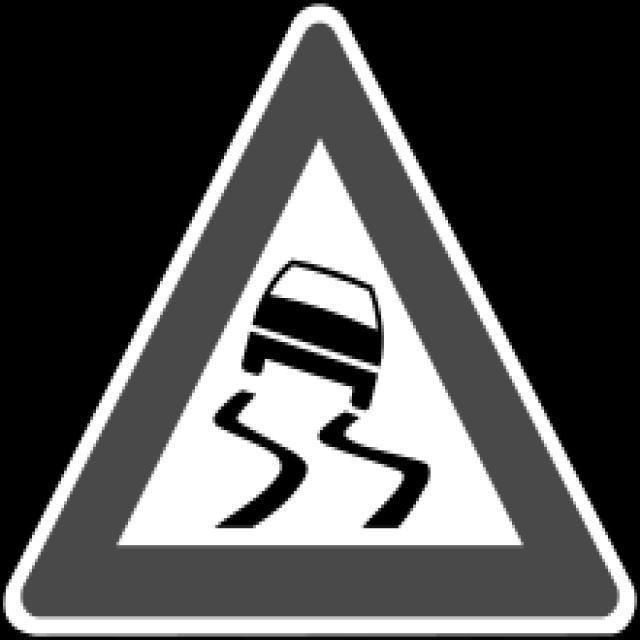slippery road: (28, 27, 617, 615)
